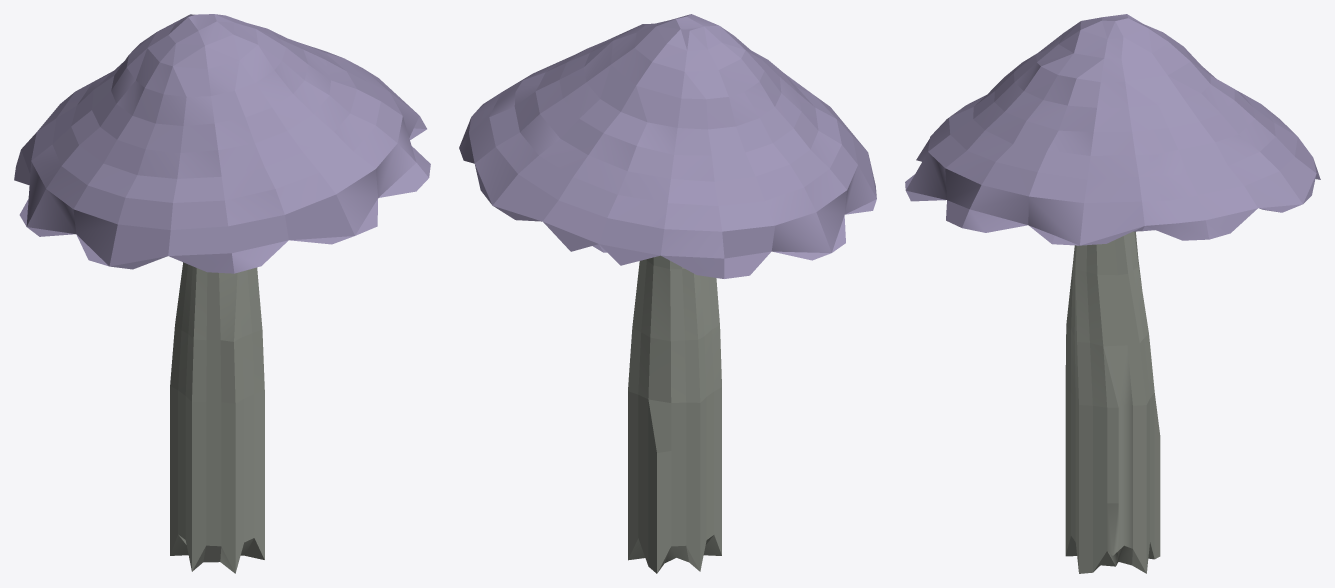
File: spore7.fbx
3 renders of one model, left to right at view 1: azimuth 30°, elevation 25°; view 2: azimuth 150°, elevation 25°; view 3: azimuth 270°, elevation 25°, orthographic.
Parts seen in each view (by area): view 1: pCone9; view 2: pCone9; view 3: pCone9.
Part boxes in pixels (x1,y1,x2,y2): pCone9: [14, 14, 430, 573]; pCone9: [459, 14, 876, 573]; pCone9: [905, 14, 1320, 573].
Bounding box in the file's own units: 4.66 × 6.67 × 4.68.
